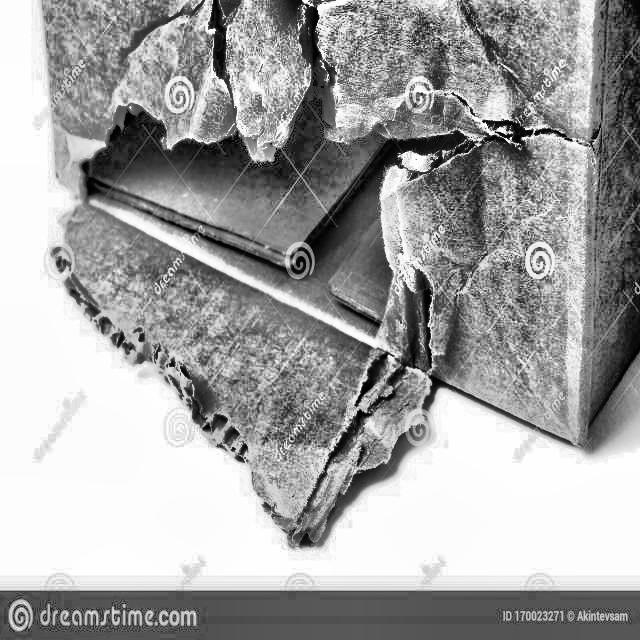box: (32, 0, 639, 580)
hole: (79, 102, 479, 364)
